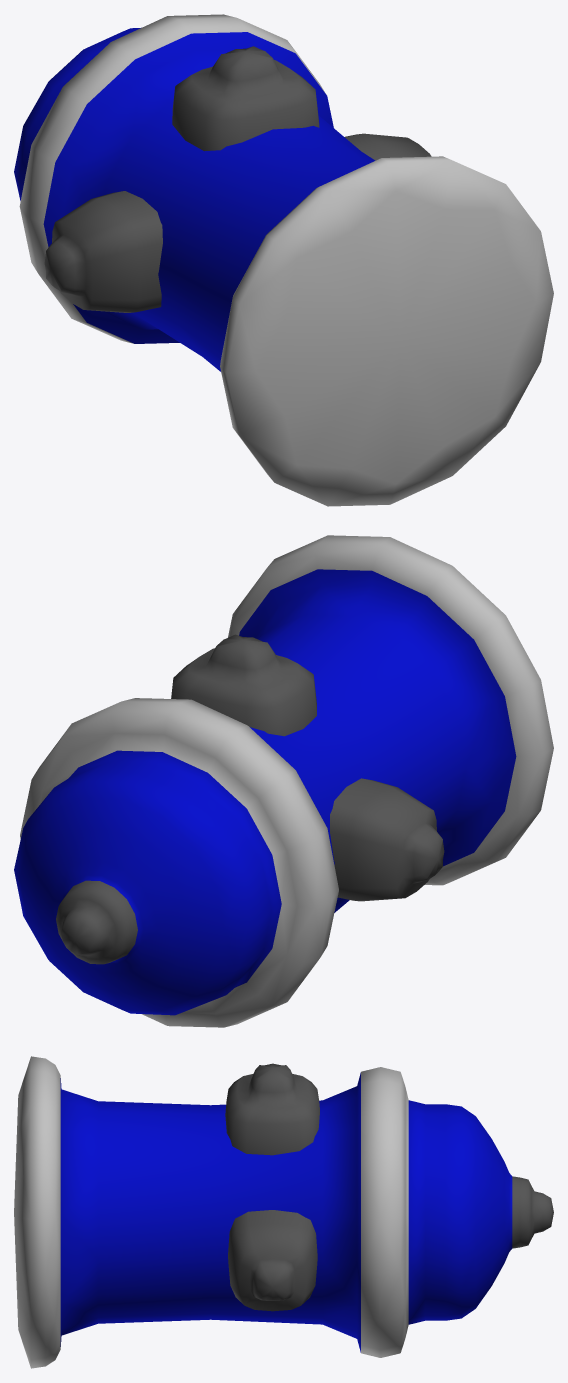
File: Hydrant1.FBX
3 views of the same model, one above another, from view 1: azimuth 30°, elevation 25°; view 2: azimuth 150°, elevation 25°; view 3: azimuth 270°, elevation 25° (orthographic). The views are drawn at different scales.
Visible parts, largest first — view 1: firehydrant001; view 2: firehydrant001; view 3: firehydrant001.
Boxes of the visible parts, <box> form: firehydrant001: <box>14,14,553,506</box>; firehydrant001: <box>14,535,553,1027</box>; firehydrant001: <box>14,1056,553,1368</box>.
Bounding box in the file's own units: 33.32 × 28.42 × 48.48.
